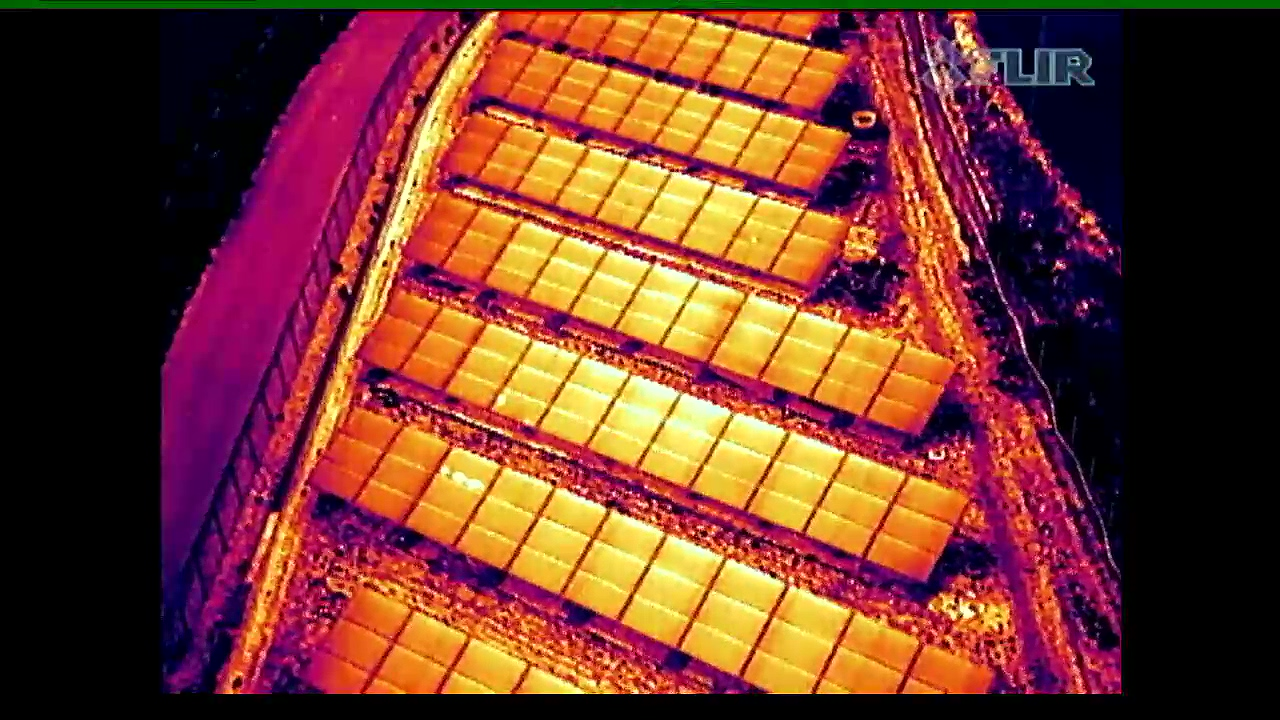hotspot: (399, 444, 502, 556), (489, 345, 579, 423), (722, 197, 805, 275)
